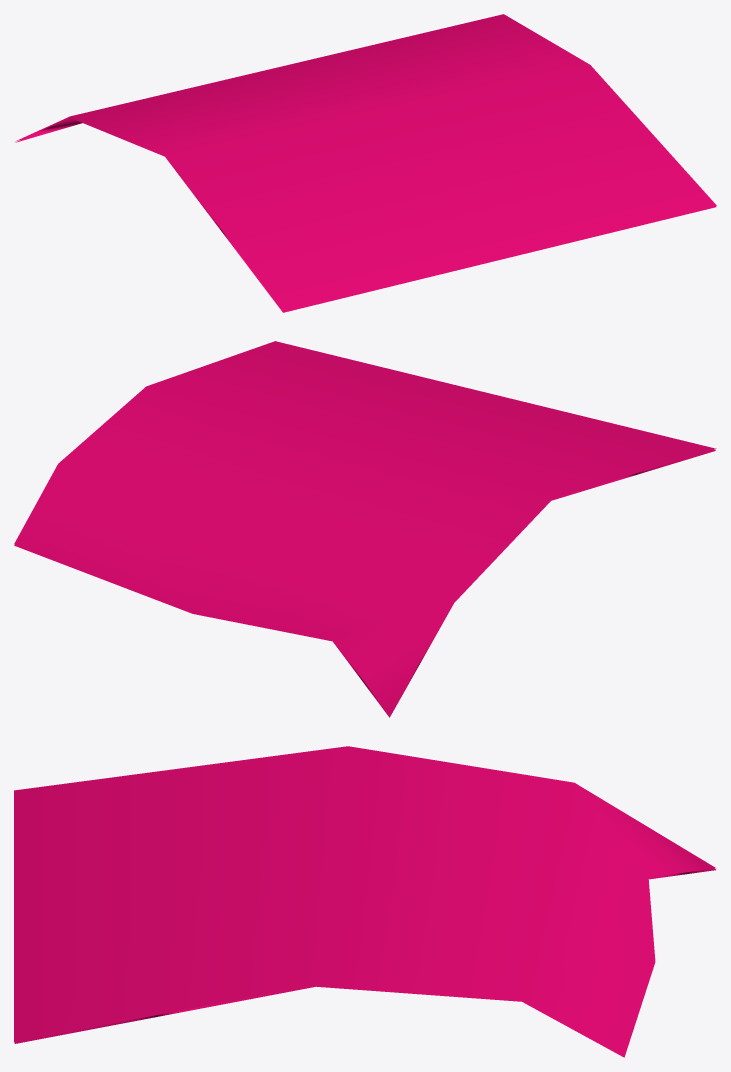
The model's file is Fence_03_Break_Fall_Grid.fbx.
3 renders of one model, top to bottom at view 1: azimuth 30°, elevation 25°; view 2: azimuth 150°, elevation 25°; view 3: azimuth 270°, elevation 25°, orthographic. The views are drawn at different scales.
Parts seen in each view (by area): view 1: Fence_03_Break_Fall_Grid; view 2: Fence_03_Break_Fall_Grid; view 3: Fence_03_Break_Fall_Grid.
Boxes of the visible parts, box(x1,y1,x2,y2) form: Fence_03_Break_Fall_Grid: box(15, 14, 716, 312); Fence_03_Break_Fall_Grid: box(14, 341, 716, 717); Fence_03_Break_Fall_Grid: box(14, 746, 716, 1057).
Bounding box in the file's own units: 256 × 57.74 × 302.
